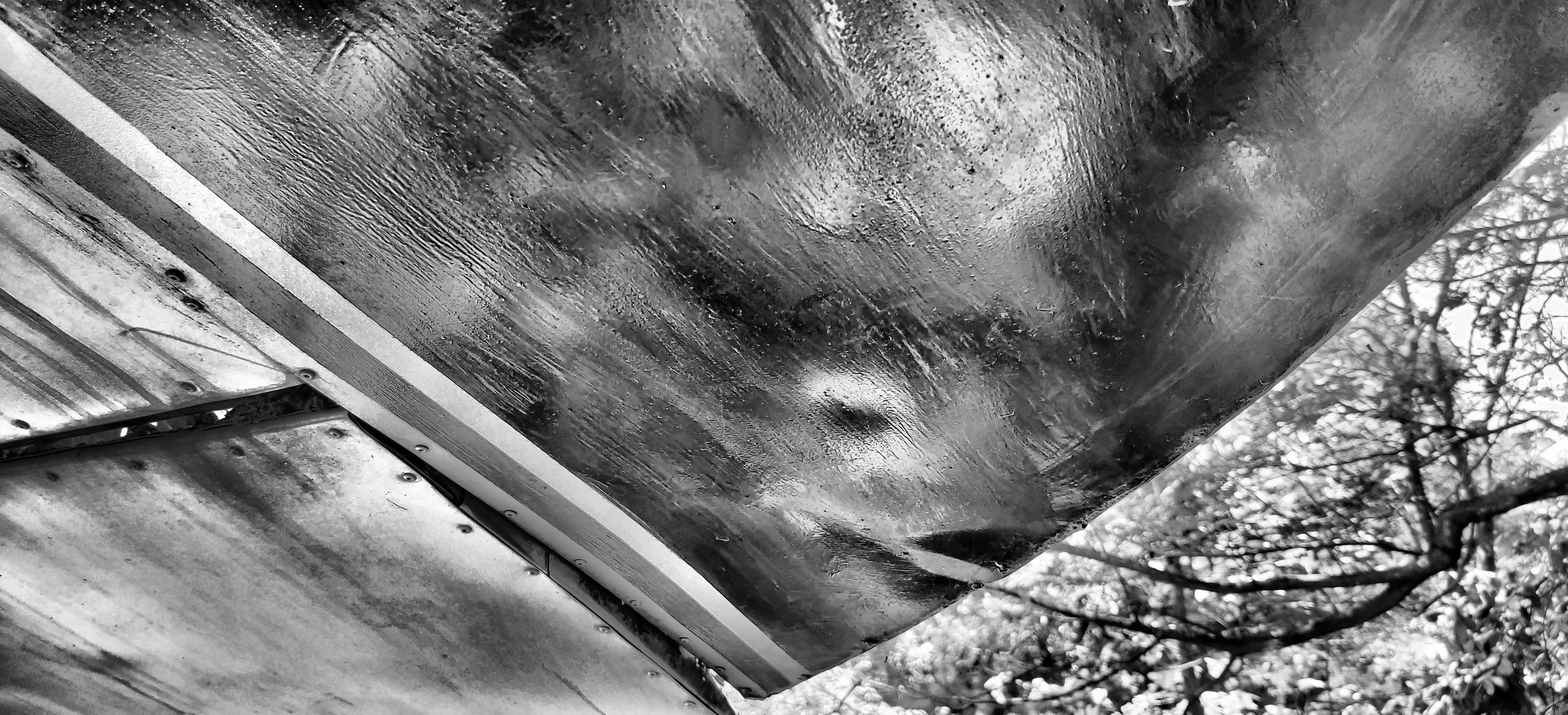dent: (739, 0, 847, 102), (823, 525, 982, 590), (666, 401, 752, 474), (806, 376, 904, 437), (911, 531, 1002, 576)
scratch: (125, 327, 288, 376), (589, 482, 666, 541), (419, 418, 493, 473), (159, 218, 225, 274)
